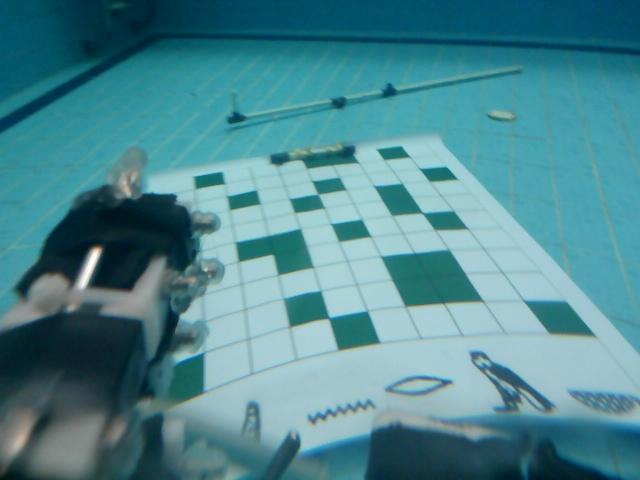Basket: (566, 380, 640, 419)
Mouth: (382, 374, 459, 396)
Owl: (466, 346, 560, 419)
Water: (306, 400, 375, 426)
